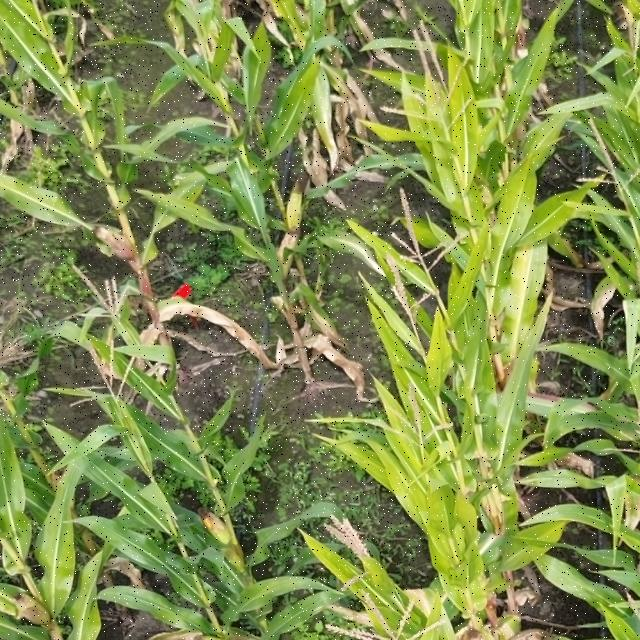gray-leaf-spot: (526, 470, 568, 487)
northern-leaf-blight: (307, 297, 341, 338), (405, 583, 440, 616), (163, 1, 189, 36), (494, 619, 528, 639)
southern-leaf-blight: (311, 543, 357, 574)
